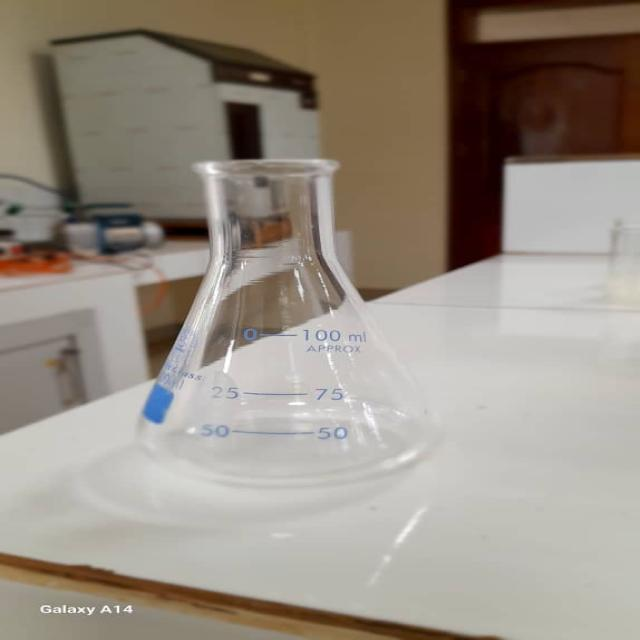Conical Flask: (128, 154, 448, 489)
